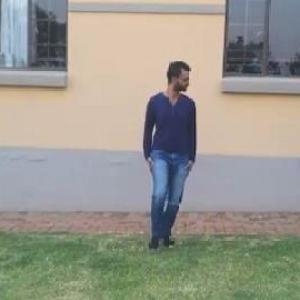follow: (141, 49, 208, 282)
